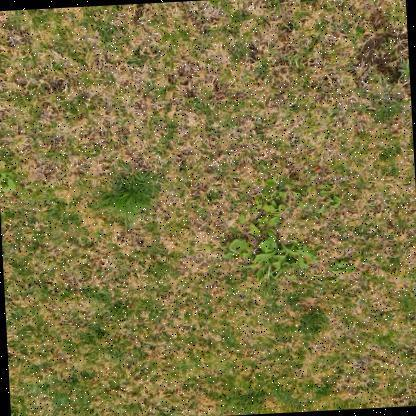Weeds: (218, 171, 345, 283), (325, 257, 356, 284), (0, 163, 17, 193), (396, 55, 409, 83)
